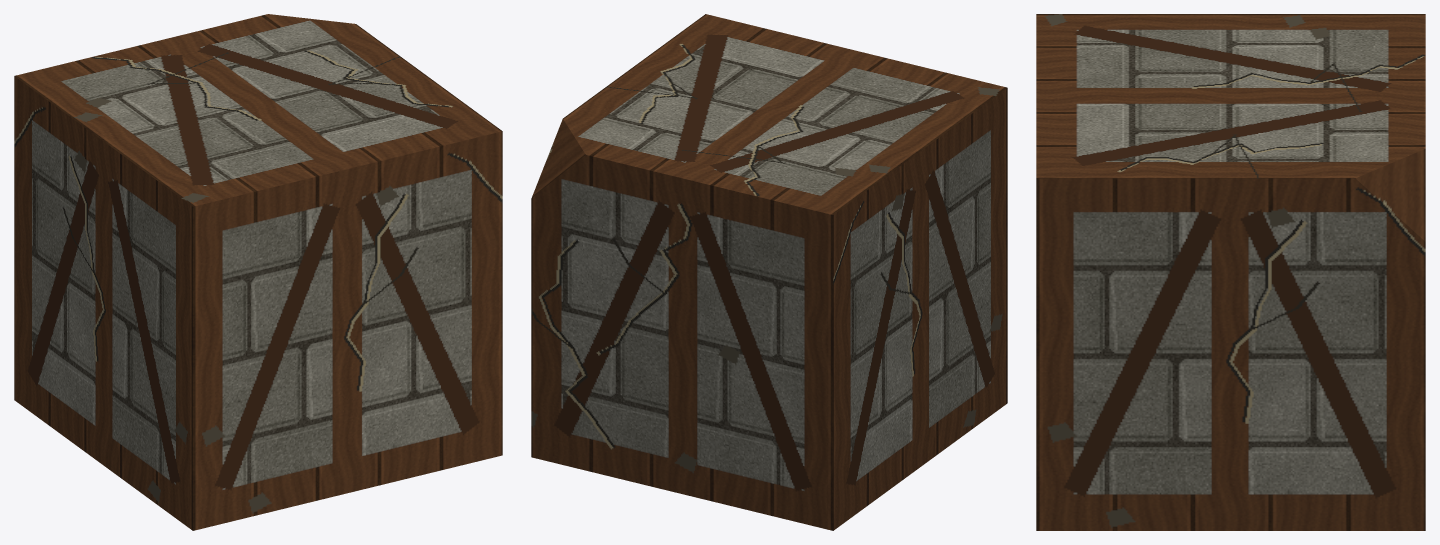
File: wood_z1.glb
The picture shows the model from 3 angles, left to right: view 1: azimuth 30°, elevation 25°; view 2: azimuth 150°, elevation 25°; view 3: azimuth 270°, elevation 25°; orthographic projection. The views are drawn at different scales.
Parts seen in each view (by area): view 1: wood_z1; view 2: wood_z1; view 3: wood_z1.
Part boxes in pixels (x1,y1,x2,y2): wood_z1: (14, 14, 502, 530); wood_z1: (531, 14, 1007, 530); wood_z1: (1036, 14, 1425, 530).
Size of the model in its own units: 1 by 1 by 1.
1 material, 1 textured.
